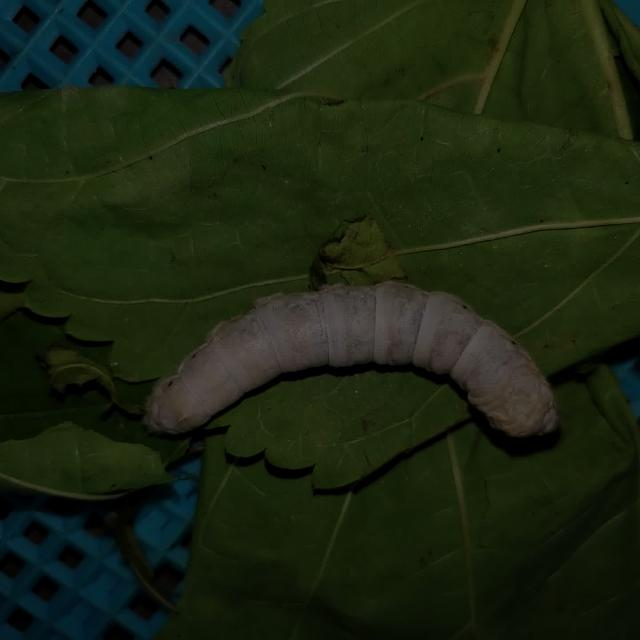Grasserie: (129, 248, 577, 503)
